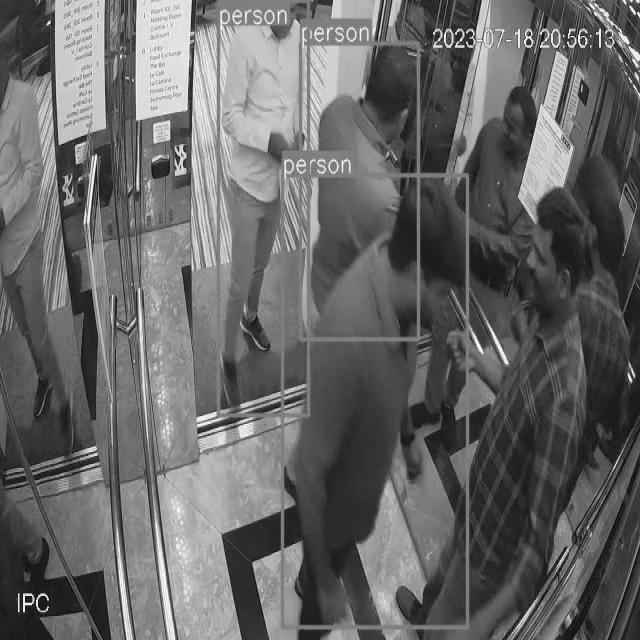person: (400, 188, 610, 640), (290, 175, 470, 627), (418, 57, 558, 467), (217, 2, 313, 419), (303, 46, 421, 341), (0, 49, 80, 461)
